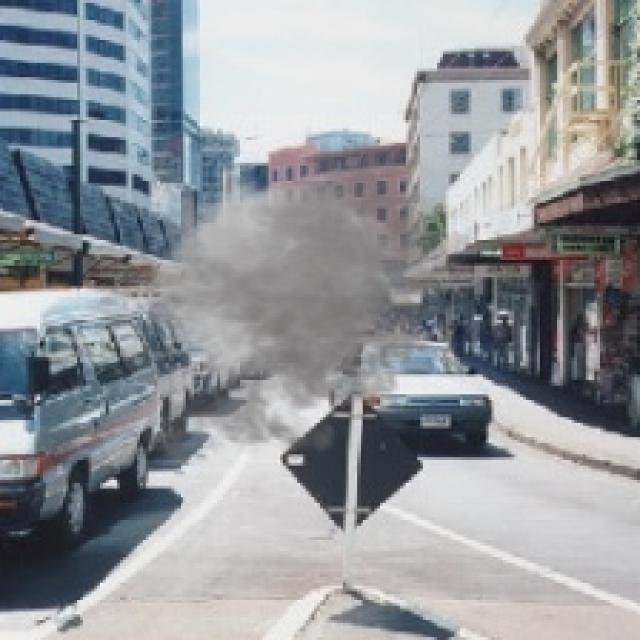smoke: (77, 126, 483, 474)
